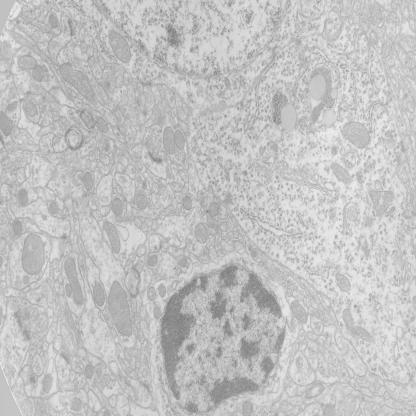mitochondria: (58, 62, 98, 104), (107, 281, 134, 337), (20, 230, 47, 276), (60, 258, 85, 306), (341, 119, 373, 150), (106, 30, 132, 66), (101, 221, 122, 256), (330, 160, 350, 186), (290, 298, 308, 325), (91, 282, 107, 310), (334, 271, 352, 295), (0, 108, 13, 140), (162, 126, 176, 154), (340, 306, 356, 330), (16, 54, 37, 70), (354, 326, 372, 344), (68, 394, 83, 414), (194, 222, 207, 244), (174, 129, 186, 152), (134, 194, 149, 212), (42, 374, 54, 396), (32, 64, 45, 83), (18, 187, 30, 207), (110, 198, 123, 216), (83, 171, 93, 194), (181, 193, 193, 212), (46, 14, 59, 31), (151, 301, 162, 321), (24, 100, 35, 119), (97, 118, 110, 134), (347, 204, 357, 223), (208, 202, 219, 219), (83, 364, 94, 380), (242, 399, 252, 416), (322, 402, 334, 416), (147, 255, 159, 269), (48, 201, 58, 217), (159, 283, 168, 300), (13, 221, 22, 237), (147, 287, 157, 301), (65, 282, 72, 297)
